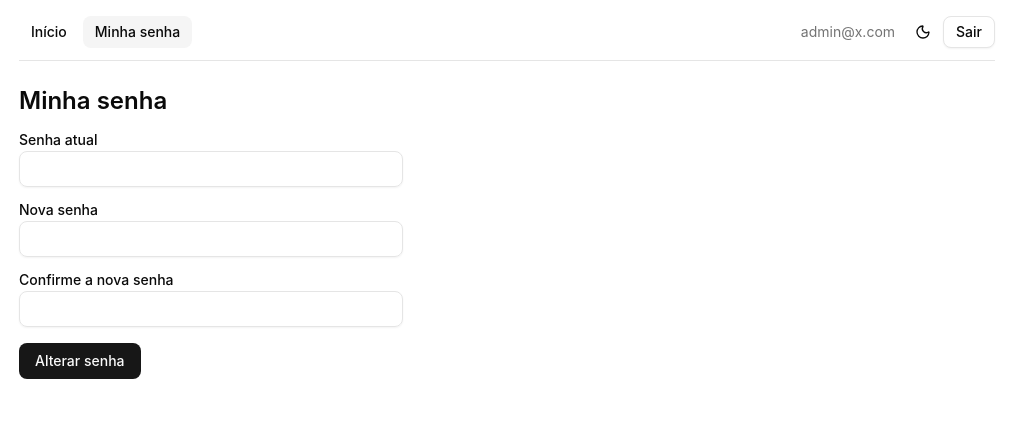
it: ChangePassword on /account/password › rejects mismatch
In the password field labelled "Senha atual": [211, 169] box top-left (19, 151), bottom-right (403, 187), type "senha-antiga-123"
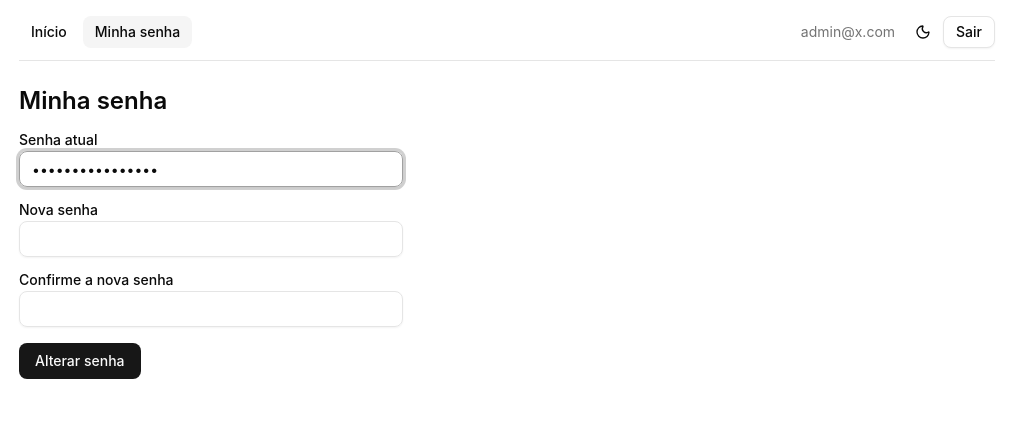
In the password field labelled "Nova senha": [211, 239] box top-left (19, 221), bottom-right (403, 257), type "senha-nova-1234"
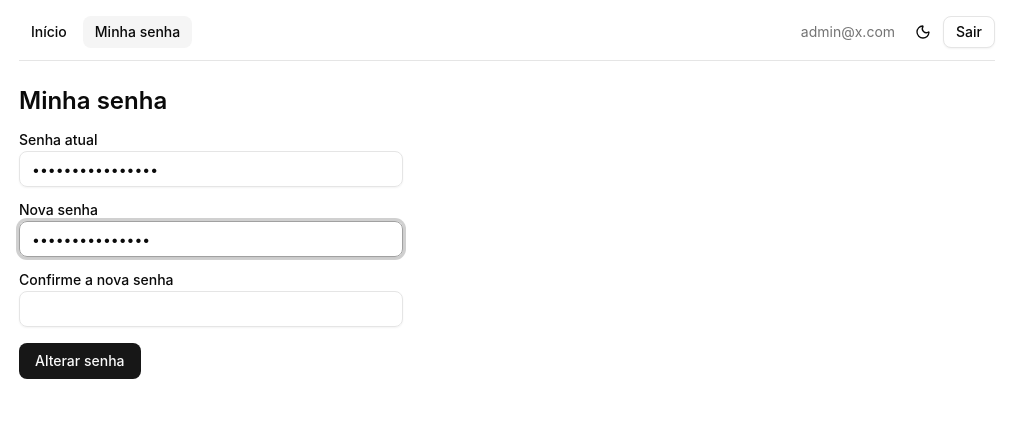
In the password field labelled "Confirme a nova senha": [211, 309] box top-left (19, 291), bottom-right (403, 327), type "senha-outra-1234"
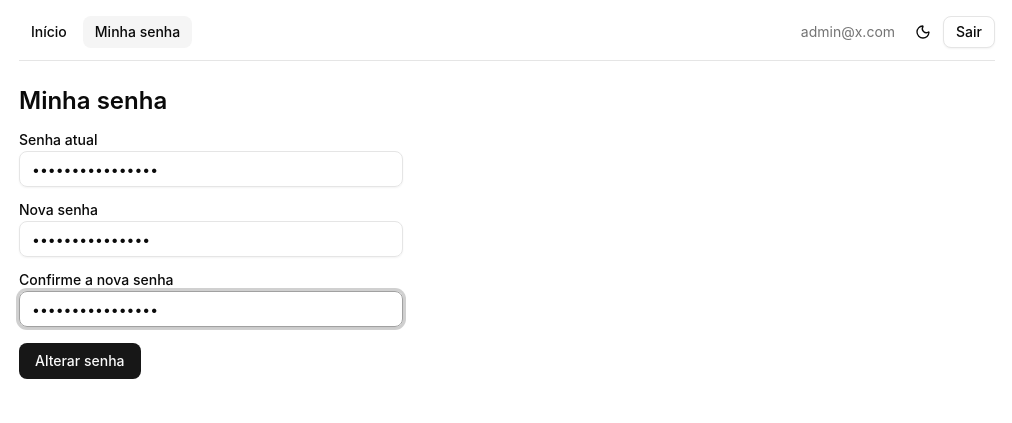
Click the button "Alterar senha": [80, 361] box top-left (19, 343), bottom-right (140, 379)
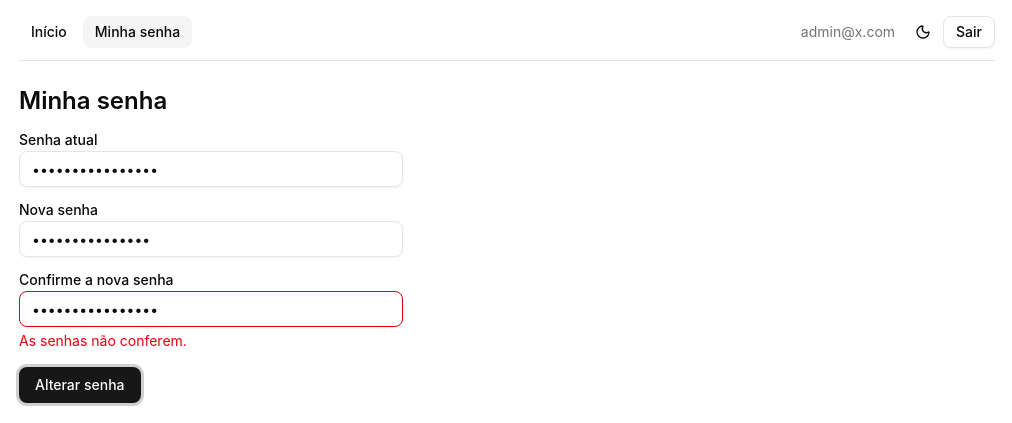
Check: the text "As senhas não conferem." is shown, box top-left (19, 332), bottom-right (187, 349)
